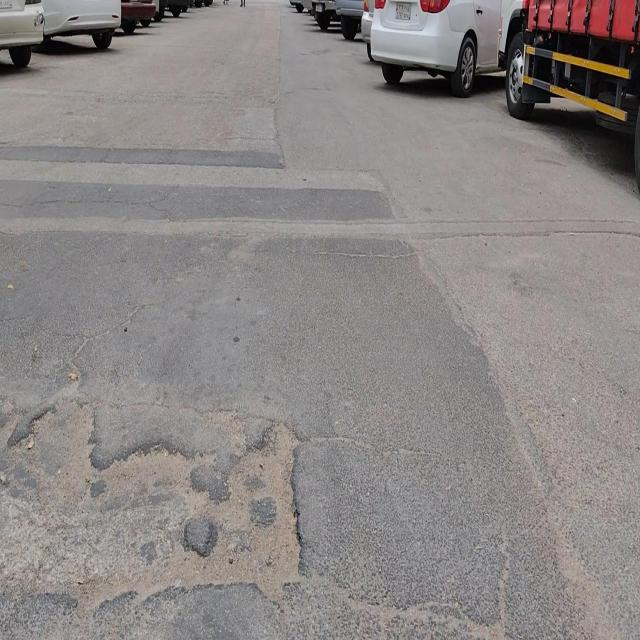Pothole: (89, 437, 214, 603), (206, 412, 306, 611)
